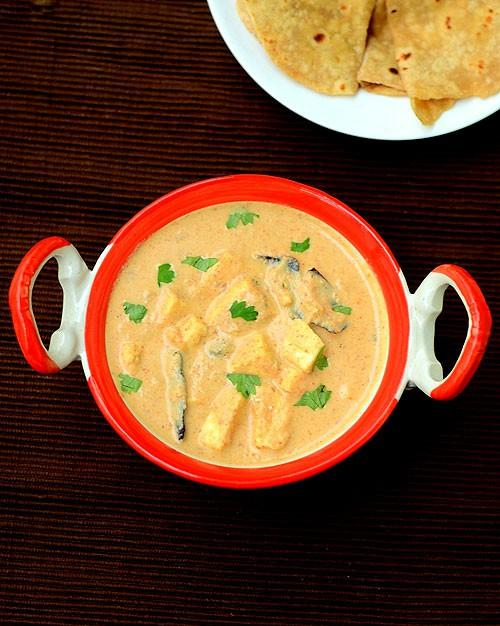ShahiPaneer: (105, 203, 389, 465)
